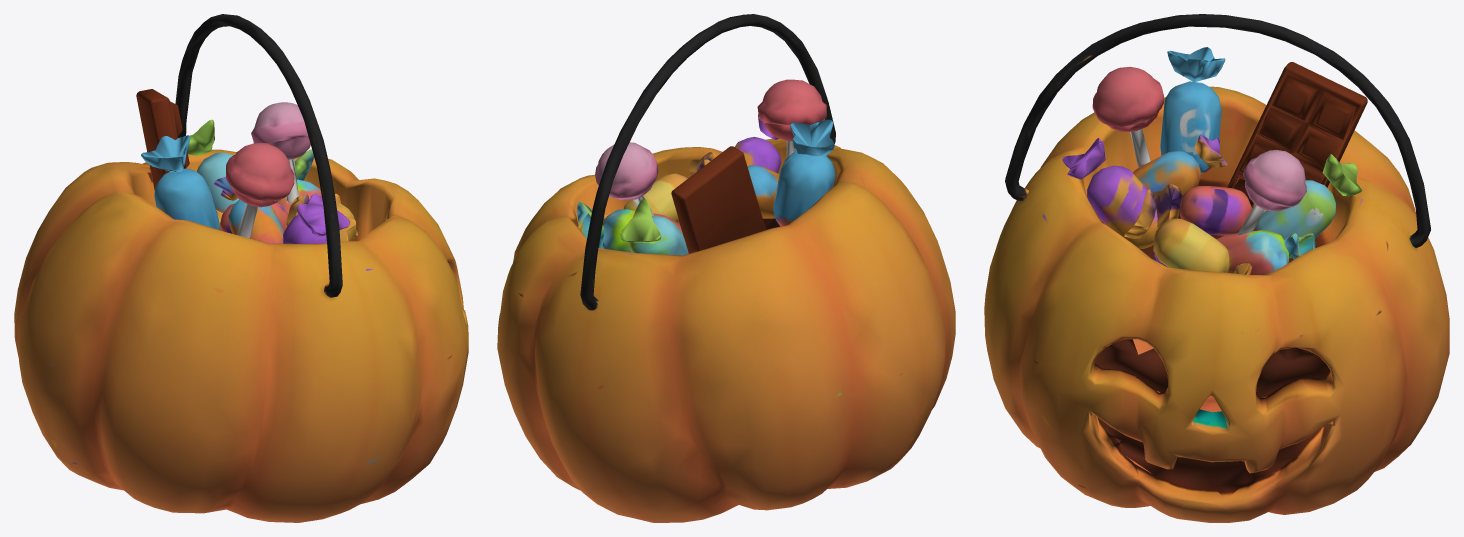
The model's file is S2_CandyBucket_LOD1.fbx.
3 views of the same model, side by side, from view 1: azimuth 30°, elevation 25°; view 2: azimuth 150°, elevation 25°; view 3: azimuth 270°, elevation 25° (orthographic). The views are drawn at different scales.
Visible parts, largest first — view 1: PART_Bucket.001, PART_Candy_02.001, PART_Candy_07.001, PART_Candy_03.001, PART_Candy_04.001, PART_Candy_10.001, PART_Candy_14.001, PART_Candy_11.001, PART_Candy_17.001, PART_Candy_12.001, PART_Candy_22.001; view 2: PART_Bucket.001, PART_Candy_04.001, PART_Candy_07.001, PART_Candy_02.001, PART_Candy_03.001, PART_Candy_14.001, PART_Candy_11.001, PART_Candy_09.001, PART_Candy_22.001, PART_Candy_10.001, PART_Candy_06.001, PART_Candy_12.001; view 3: PART_Bucket.001, PART_Candy_04.001, PART_Candy_02.001, PART_Candy_07.001, PART_Candy_03.001, PART_Candy_12.001, PART_Candy_09.001, PART_Candy_08.001, PART_Candy_11.001, PART_Candy_06.001, PART_Candy_10.001, PART_Candy_14.001 (+6 smaller).
Part boxes in pixels (left/top/right/bottom): PART_Bucket.001: left=14, top=14, right=468, bottom=522; PART_Candy_02.001: left=226, top=142, right=294, bottom=238; PART_Candy_07.001: left=154, top=168, right=219, bottom=229; PART_Candy_03.001: left=251, top=102, right=310, bottom=203; PART_Candy_04.001: left=136, top=89, right=189, bottom=190; PART_Candy_10.001: left=228, top=199, right=284, bottom=243; PART_Candy_14.001: left=141, top=135, right=190, bottom=172; PART_Candy_11.001: left=197, top=152, right=239, bottom=212; PART_Candy_17.001: left=296, top=193, right=349, bottom=236; PART_Candy_12.001: left=283, top=214, right=326, bottom=243; PART_Candy_22.001: left=177, top=119, right=214, bottom=155; PART_Bucket.001: left=497, top=14, right=955, bottom=522; PART_Candy_04.001: left=671, top=146, right=765, bottom=253; PART_Candy_07.001: left=773, top=151, right=835, bottom=226; PART_Candy_02.001: left=757, top=79, right=826, bottom=157; PART_Candy_03.001: left=595, top=142, right=658, bottom=215; PART_Candy_14.001: left=790, top=119, right=834, bottom=156; PART_Candy_11.001: left=629, top=215, right=688, bottom=255; PART_Candy_09.001: left=624, top=173, right=688, bottom=223; PART_Candy_22.001: left=620, top=198, right=661, bottom=243; PART_Candy_10.001: left=747, top=165, right=779, bottom=218; PART_Candy_06.001: left=602, top=209, right=682, bottom=252; PART_Candy_12.001: left=735, top=137, right=781, bottom=173; PART_Bucket.001: left=984, top=14, right=1449, bottom=522; PART_Candy_04.001: left=1227, top=62, right=1367, bottom=207; PART_Candy_02.001: left=1092, top=66, right=1164, bottom=167; PART_Candy_07.001: left=1160, top=81, right=1221, bottom=174; PART_Candy_03.001: left=1237, top=149, right=1306, bottom=235; PART_Candy_12.001: left=1086, top=165, right=1157, bottom=248; PART_Candy_09.001: left=1153, top=218, right=1229, bottom=272; PART_Candy_08.001: left=1179, top=186, right=1252, bottom=235; PART_Candy_11.001: left=1255, top=180, right=1335, bottom=258; PART_Candy_06.001: left=1216, top=230, right=1288, bottom=274; PART_Candy_10.001: left=1133, top=151, right=1200, bottom=198; PART_Candy_14.001: left=1167, top=47, right=1225, bottom=82.
Bounding box in the file's own units: 0.2265 × 0.2401 × 0.2187.
25 materials, 25 textured.
